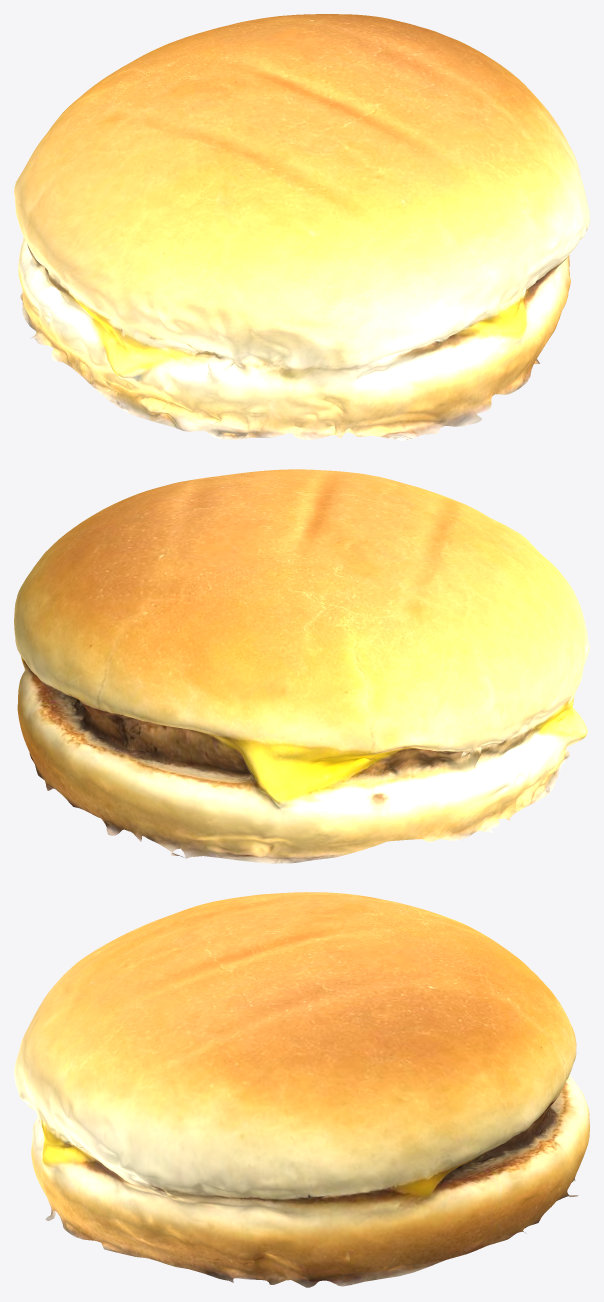
File: cheeseburger.glb
3 views of the same model, one above another, from view 1: azimuth 30°, elevation 25°; view 2: azimuth 150°, elevation 25°; view 3: azimuth 270°, elevation 25° (orthographic).
Parts seen in each view (by area): view 1: dish; view 2: dish; view 3: dish.
Boxes of the visible parts, left/top/right/bottom form: dish: left=14, top=14, right=589, bottom=440; dish: left=14, top=469, right=589, bottom=863; dish: left=14, top=892, right=589, bottom=1287.
Size of the model in its own units: 0.1074 by 0.0551 by 0.11.
1 material, 1 textured.
